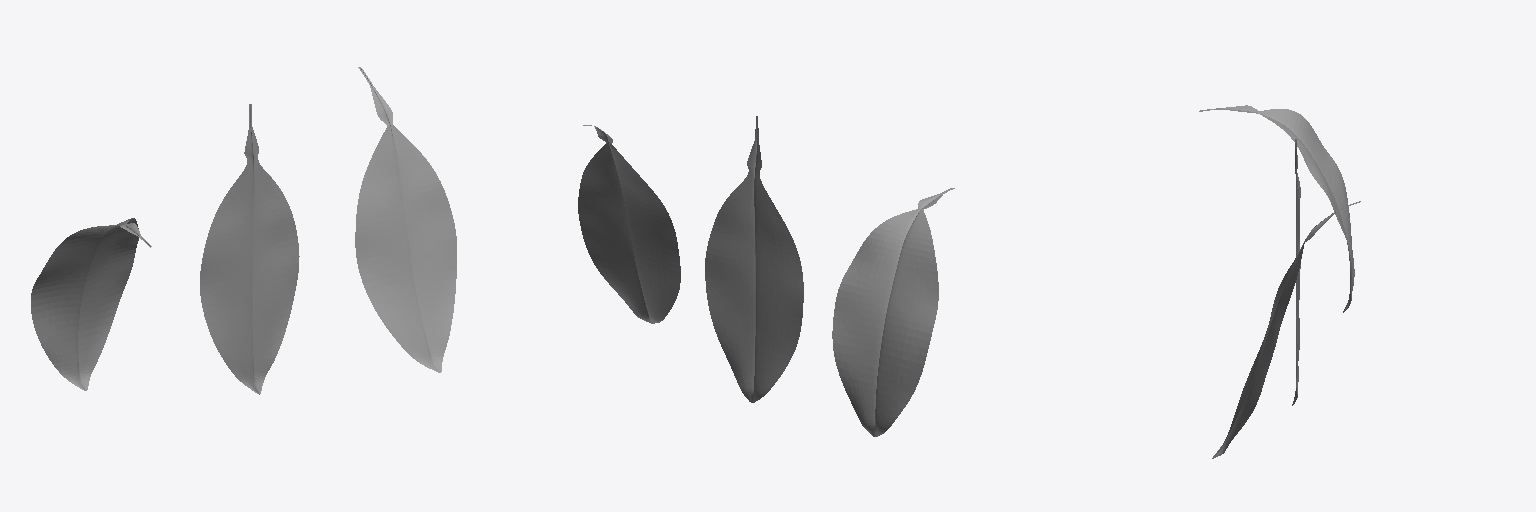
Rendered from leaf2.obj.
3 views of the same model, side by side, from view 1: azimuth 30°, elevation 25°; view 2: azimuth 150°, elevation 25°; view 3: azimuth 270°, elevation 25° (orthographic).
Visible parts, largest first — view 1: Plane.004_Plane.008; view 2: Plane.004_Plane.008; view 3: Plane.004_Plane.008.
Boxes of the visible parts, <box> form: Plane.004_Plane.008: <box>31,67,456,394</box>; Plane.004_Plane.008: <box>578,116,954,436</box>; Plane.004_Plane.008: <box>1199,105,1360,458</box>.
Bounding box in the file's own units: 0.4428 × 0.3171 × 0.16.